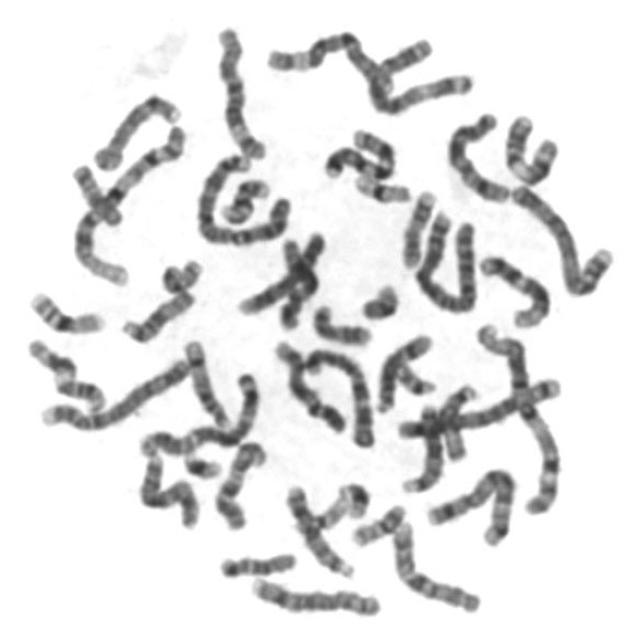A1: (66, 117, 192, 289), (469, 313, 568, 517)
A2: (192, 145, 296, 250), (410, 205, 484, 315)
A3: (132, 364, 265, 458), (363, 29, 478, 116)
B4: (506, 174, 619, 298), (35, 350, 195, 434)
B5: (389, 368, 566, 440), (420, 459, 521, 549)
C10: (386, 513, 486, 617), (208, 433, 272, 533)
C11: (21, 330, 111, 416), (498, 105, 563, 188)
C12: (474, 246, 555, 330), (266, 234, 323, 334)
C6: (256, 26, 397, 100), (210, 18, 272, 161)
C7: (298, 339, 381, 451), (318, 120, 402, 182)
C8: (88, 85, 186, 173), (244, 568, 386, 620)
C9: (234, 222, 332, 317), (269, 332, 352, 436)
D13: (281, 478, 360, 582), (396, 398, 448, 495)
D14: (371, 325, 437, 414), (177, 332, 233, 430)
D15: (116, 282, 200, 345), (435, 375, 483, 464)
E16: (22, 282, 110, 336), (215, 174, 277, 226)
E17: (396, 180, 442, 271), (308, 296, 378, 348)
E18: (66, 156, 130, 230), (215, 544, 301, 580)
F19: (348, 167, 416, 206), (354, 278, 404, 322)
F20: (346, 496, 411, 550), (156, 251, 207, 296)
G21: (176, 442, 226, 482), (334, 475, 374, 521)
G22: (287, 492, 352, 535), (389, 355, 442, 398)
X: (442, 104, 516, 205), (133, 446, 205, 532)
